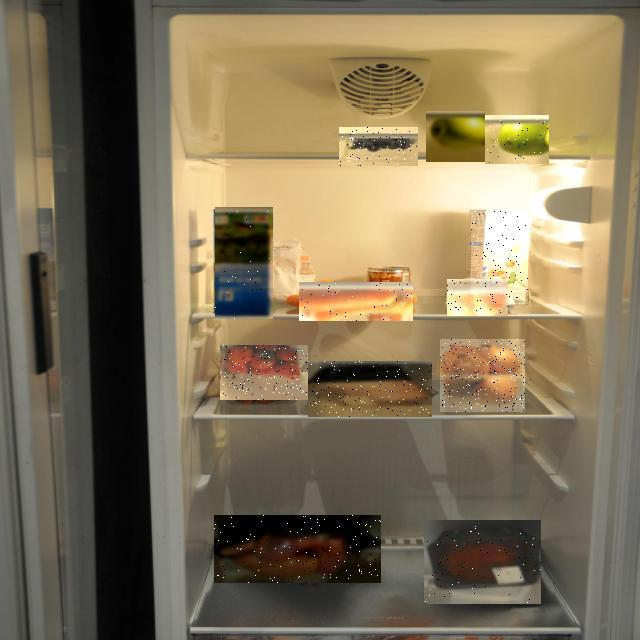Apple: (485, 115, 549, 164), (426, 111, 485, 162)
Carrot: (299, 282, 413, 321)
Eggs: (447, 279, 508, 316)
Meat: (214, 515, 381, 583), (424, 520, 541, 604), (308, 361, 432, 417)
Milk: (215, 207, 273, 319), (471, 211, 528, 304)
Olives: (339, 127, 418, 166)
Onion: (440, 339, 525, 412)
Tomatoes: (220, 345, 308, 400)
